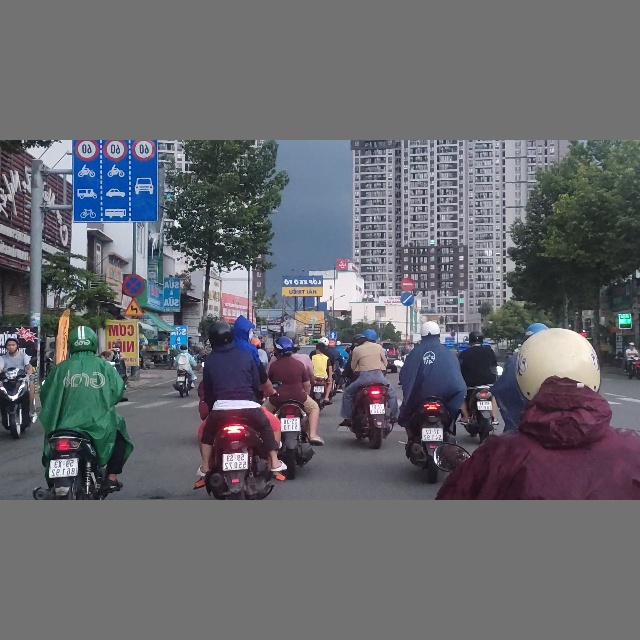I.407a: (328, 330, 337, 339)
I.434a: (260, 324, 268, 335)
P.102: (400, 277, 414, 291)
P.127*60: (74, 140, 100, 161), (103, 140, 127, 161), (132, 140, 155, 160)
P.130: (122, 274, 144, 296)
R.302a: (400, 292, 414, 306)
R.415a: (73, 162, 157, 222)
W.202b: (123, 297, 144, 315)
